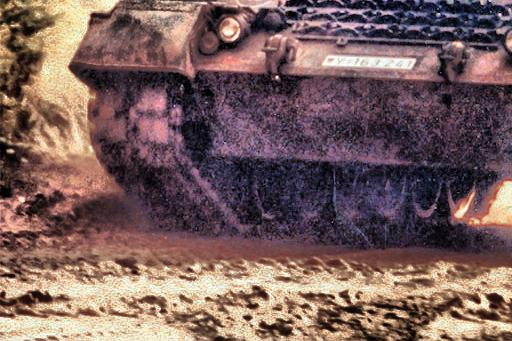tanks: (73, 1, 512, 234)
